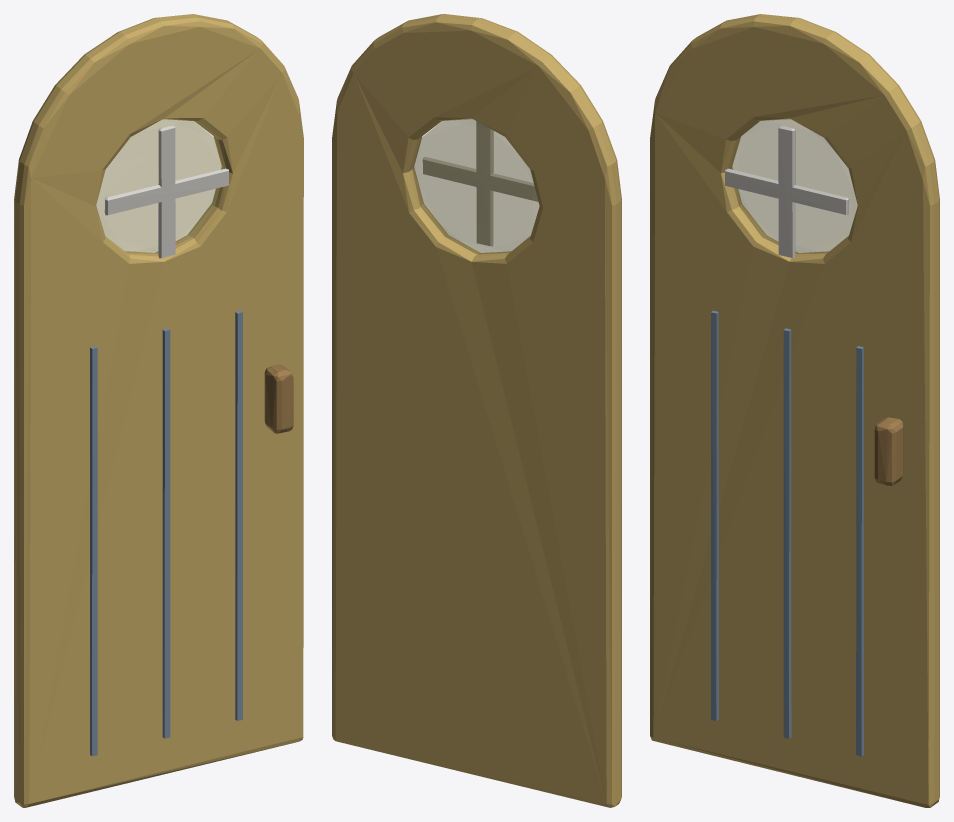
The model's file is SM_Kit_Door_Cottage_LOD1.glb.
3 renders of one model, left to right at view 1: azimuth 30°, elevation 25°; view 2: azimuth 150°, elevation 25°; view 3: azimuth 330°, elevation 25°, orthographic.
Parts seen in each view (by area): view 1: SM_Kit_Door_Cottage_LOD1; view 2: SM_Kit_Door_Cottage_LOD1; view 3: SM_Kit_Door_Cottage_LOD1.
Part boxes in pixels (<box>): SM_Kit_Door_Cottage_LOD1: <box>14,14,303,807</box>; SM_Kit_Door_Cottage_LOD1: <box>332,14,621,807</box>; SM_Kit_Door_Cottage_LOD1: <box>650,14,939,807</box>.
Bounding box in the file's own units: 0.82 × 2.08 × 0.13.
